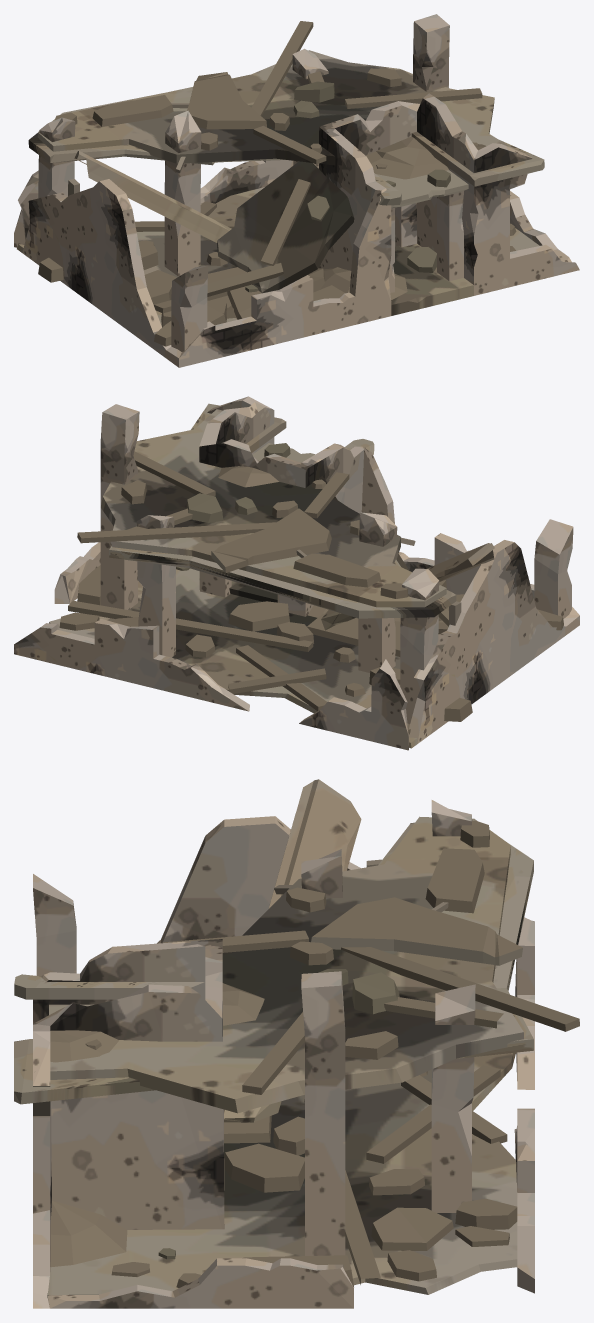
The model's file is SM_Bld_Destroyed_02.glb.
The picture shows the model from 3 angles, top to bottom: view 1: azimuth 30°, elevation 25°; view 2: azimuth 150°, elevation 25°; view 3: azimuth 270°, elevation 25°; orthographic projection. The views are drawn at different scales.
Parts seen in each view (by area): view 1: SM_Bld_Destroyed_02; view 2: SM_Bld_Destroyed_02; view 3: SM_Bld_Destroyed_02.
Part boxes in pixels (x1,y1,x2,y2): SM_Bld_Destroyed_02: (14,14,579,367); SM_Bld_Destroyed_02: (14,396,579,750); SM_Bld_Destroyed_02: (14,779,579,1308).
Bounding box in the file's own units: 10.54 × 4.71 × 8.2.
Materials: 1 (1 with a texture image).
